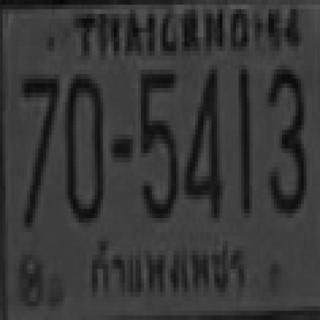N00: (62, 70, 103, 218)
N01: (237, 65, 251, 214)
N03: (266, 67, 304, 211)
N04: (183, 65, 221, 214)
N05: (138, 65, 176, 218)
N07: (19, 72, 57, 225)
P16: (80, 229, 253, 305)
